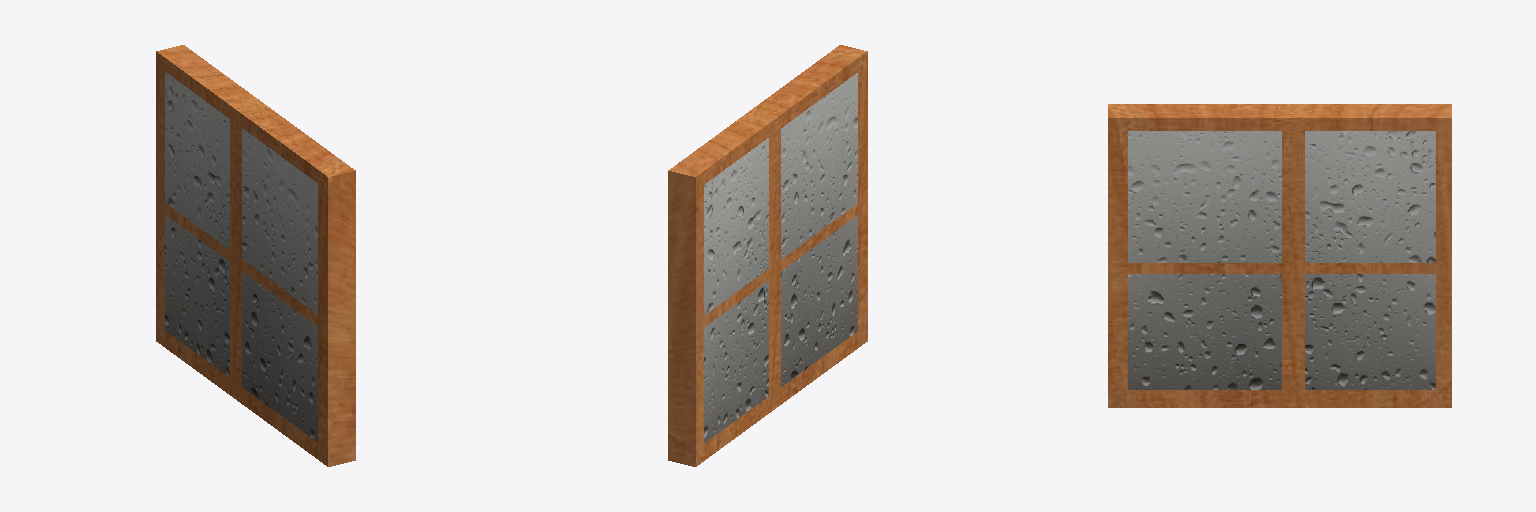
3 renders of one model, left to right at view 1: azimuth 30°, elevation 25°; view 2: azimuth 150°, elevation 25°; view 3: azimuth 270°, elevation 25°, orthographic.
Visible parts, largest first — view 1: Cube; view 2: Cube; view 3: Cube.
Boxes of the visible parts, box(x1,y1,x2,y2) form: Cube: box(156, 45, 355, 466); Cube: box(668, 45, 867, 466); Cube: box(1108, 104, 1451, 407).
Size of the model in its own units: 0.5316 by 5.4 by 5.8.
2 materials, 2 textured.